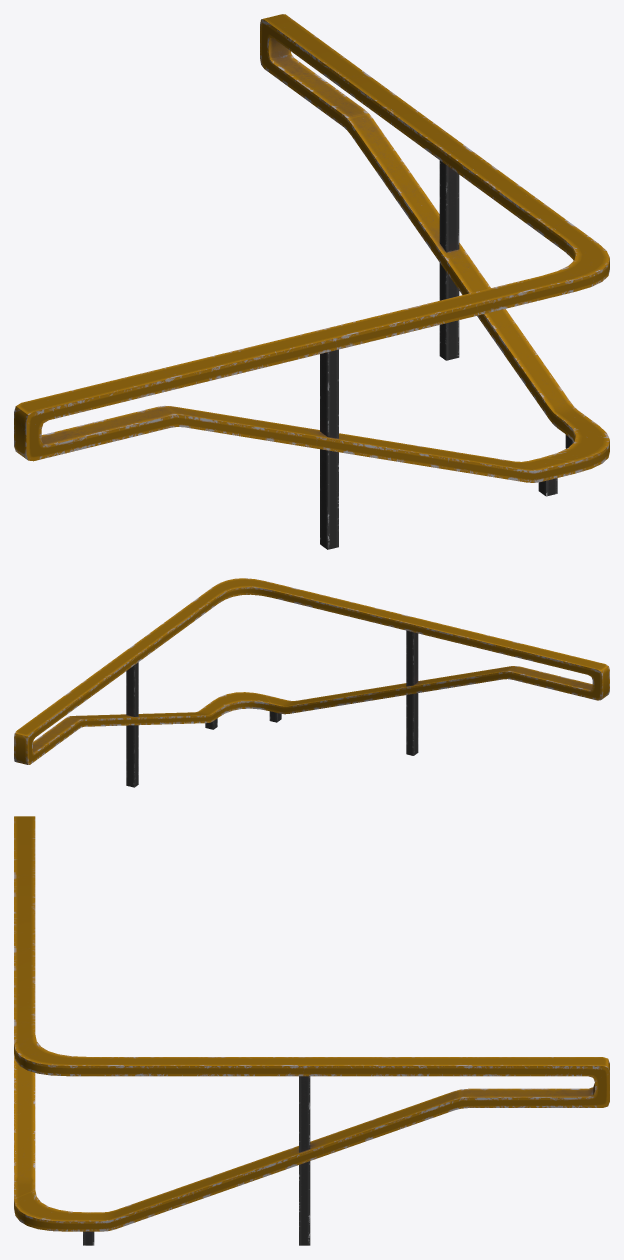
The model's file is SM_Fence_B.FBX.
3 renders of one model, top to bottom at view 1: azimuth 30°, elevation 25°; view 2: azimuth 150°, elevation 25°; view 3: azimuth 270°, elevation 25°, orthographic. The views are drawn at different scales.
Visible parts, largest first — view 1: SM_Fence_b; view 2: SM_Fence_b; view 3: SM_Fence_b.
Part boxes in pixels (x1,y1,x2,y2): SM_Fence_b: [14, 14, 609, 549]; SM_Fence_b: [14, 578, 609, 787]; SM_Fence_b: [14, 816, 609, 1245].
Bounding box in the file's own units: 200 × 67.15 × 200.
Materials: 1 (1 with a texture image).
